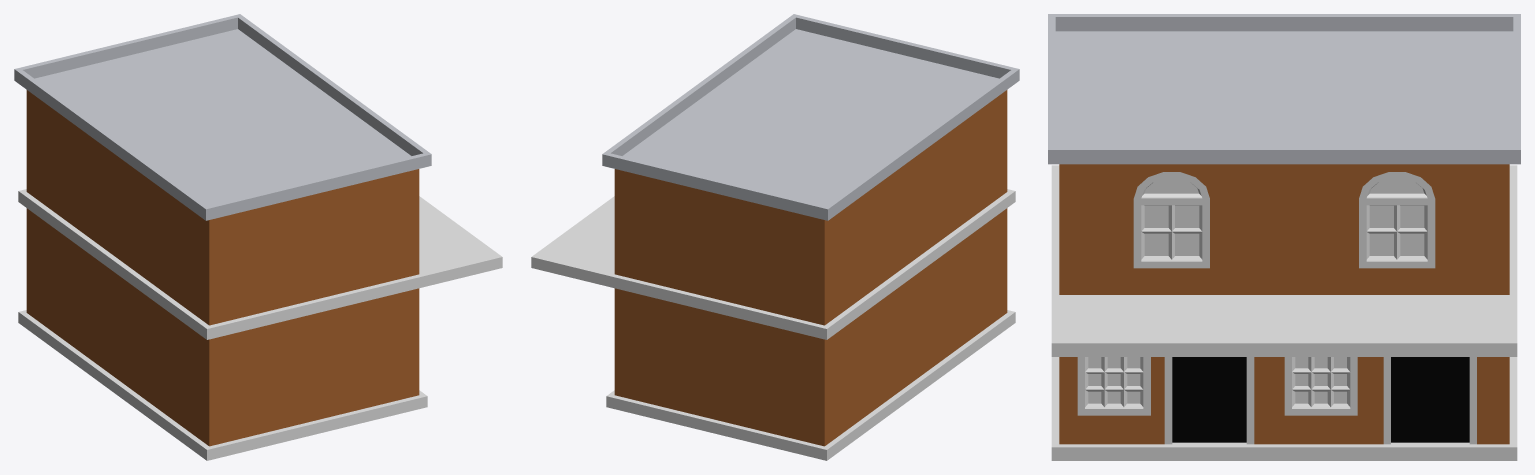
File: Building 3.1.fbx
3 views of the same model, side by side, from view 1: azimuth 30°, elevation 25°; view 2: azimuth 150°, elevation 25°; view 3: azimuth 270°, elevation 25° (orthographic). The views are drawn at different scales.
Parts seen in each view (by area): view 1: building_003; view 2: building_003; view 3: building_003.
Boxes of the visible parts, x1,y1,x2,y2 form: building_003: (14,14,502,460); building_003: (531,14,1019,460); building_003: (1048,14,1520,460).
Bounding box in the file's own units: 568 × 461 × 632.
